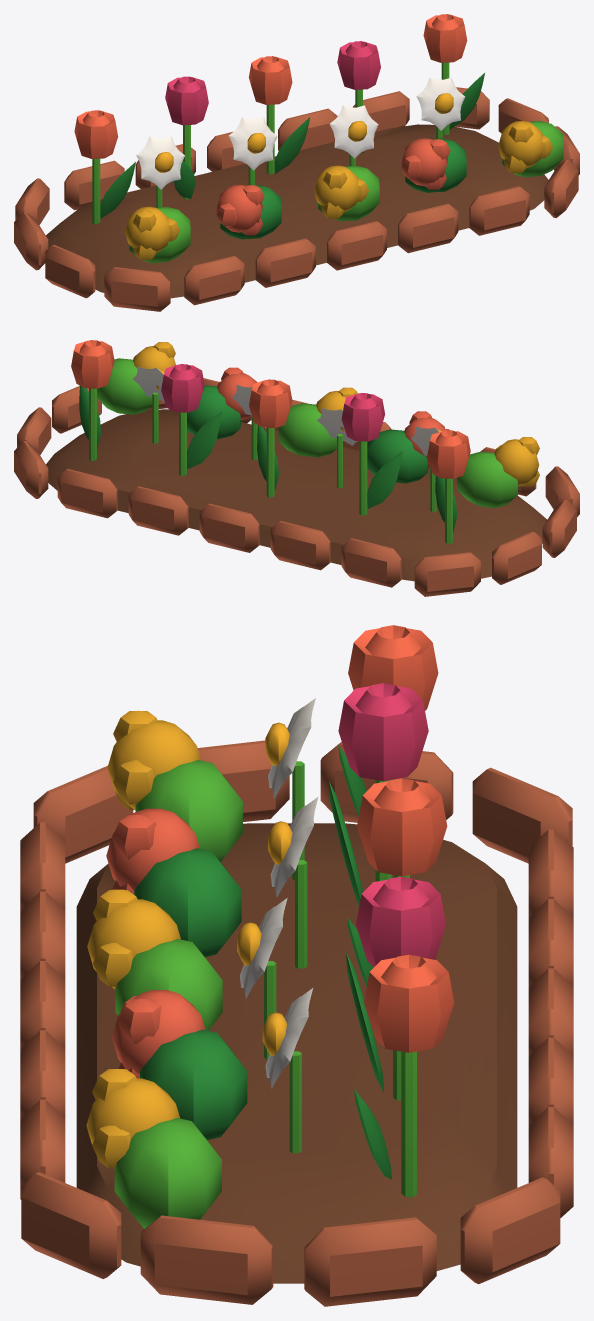
The model's file is flower_bed.glb.
3 views of the same model, one above another, from view 1: azimuth 30°, elevation 25°; view 2: azimuth 150°, elevation 25°; view 3: azimuth 270°, elevation 25° (orthographic). The views are drawn at different scales.
Visible parts, largest first — view 1: flower_bed; view 2: flower_bed; view 3: flower_bed.
Boxes of the visible parts, box(x1,y1,x2,y2) form: flower_bed: box(14, 14, 579, 311); flower_bed: box(14, 340, 579, 596); flower_bed: box(20, 625, 573, 1306).
Size of the model in its own units: 2.12 by 0.5581 by 0.98.
